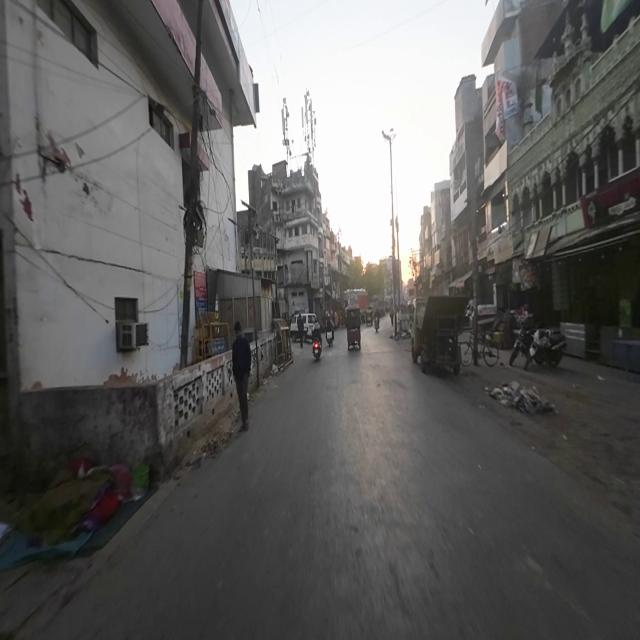Garbage: (486, 377, 562, 423)
